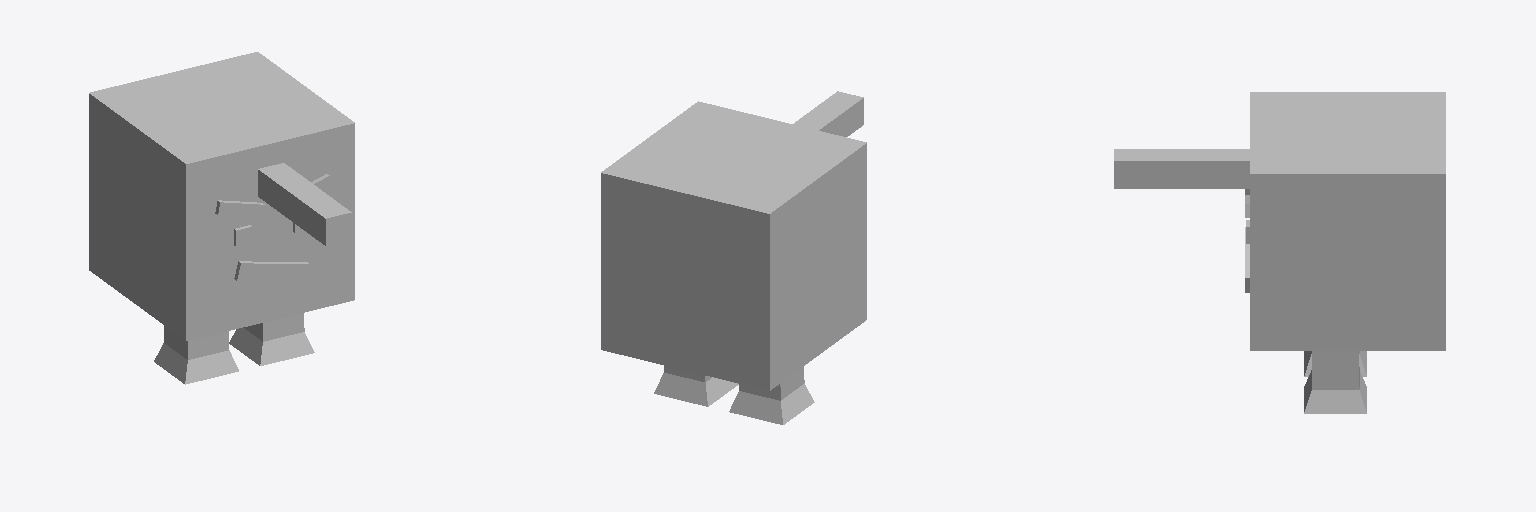
The model's file is bigenemy.obj.
3 renders of one model, left to right at view 1: azimuth 30°, elevation 25°; view 2: azimuth 150°, elevation 25°; view 3: azimuth 270°, elevation 25°, orthographic.
Size of the model in its own units: 2.59 by 3.6 by 4.39.